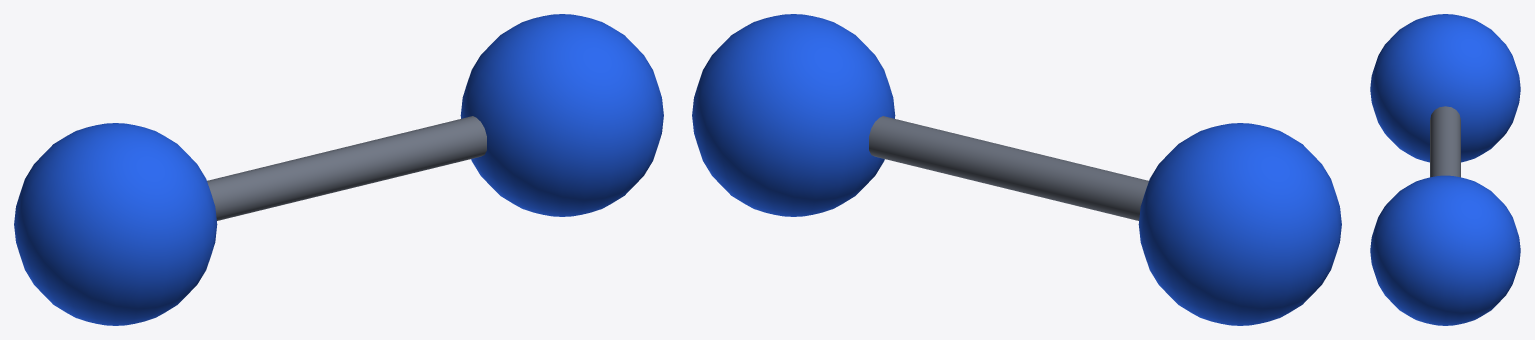
3 renders of one model, left to right at view 1: azimuth 30°, elevation 25°; view 2: azimuth 150°, elevation 25°; view 3: azimuth 270°, elevation 25°, orthographic. The views are drawn at different scales.
Parts seen in each view (by area): view 1: F1, F2, object 3; view 2: F1, F2, object 3; view 3: F2, F1, object 3.
Part boxes in pixels (x1,y1,x2,y2): F1: (14, 123, 217, 325); F2: (460, 14, 663, 216); object 3: (207, 116, 486, 220); F1: (1138, 123, 1341, 325); F2: (692, 14, 895, 216); object 3: (869, 116, 1148, 220); F2: (1370, 175, 1520, 325); F1: (1370, 14, 1520, 162); object 3: (1430, 106, 1460, 177).
Bounding box in the file's own units: 0.276 × 0.078 × 0.078.
